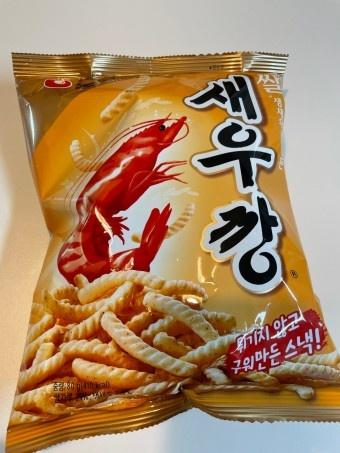snack: (5, 51, 340, 453)
